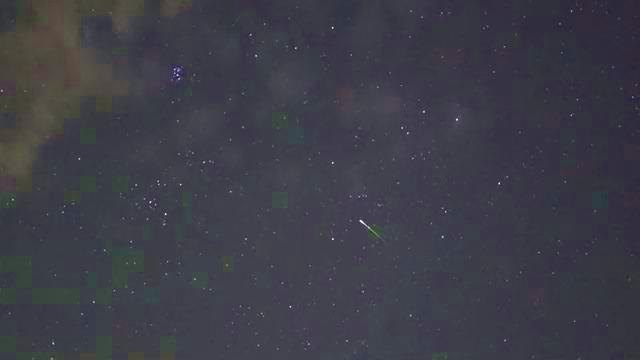meteorite: (332, 216, 403, 244)
